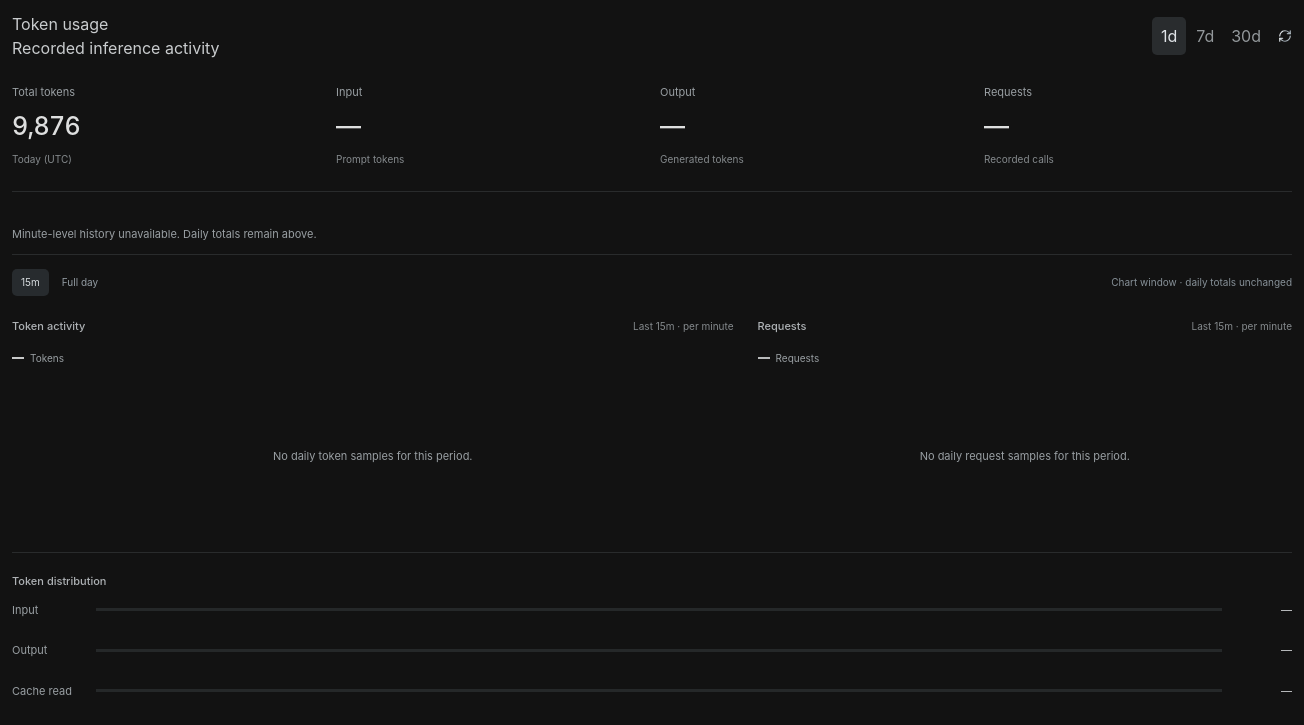
Test: does not relabel a previous period total while the selected period is pending
Click the button named "7 days".
click(1205, 36)  # box [1188,17,1222,55]
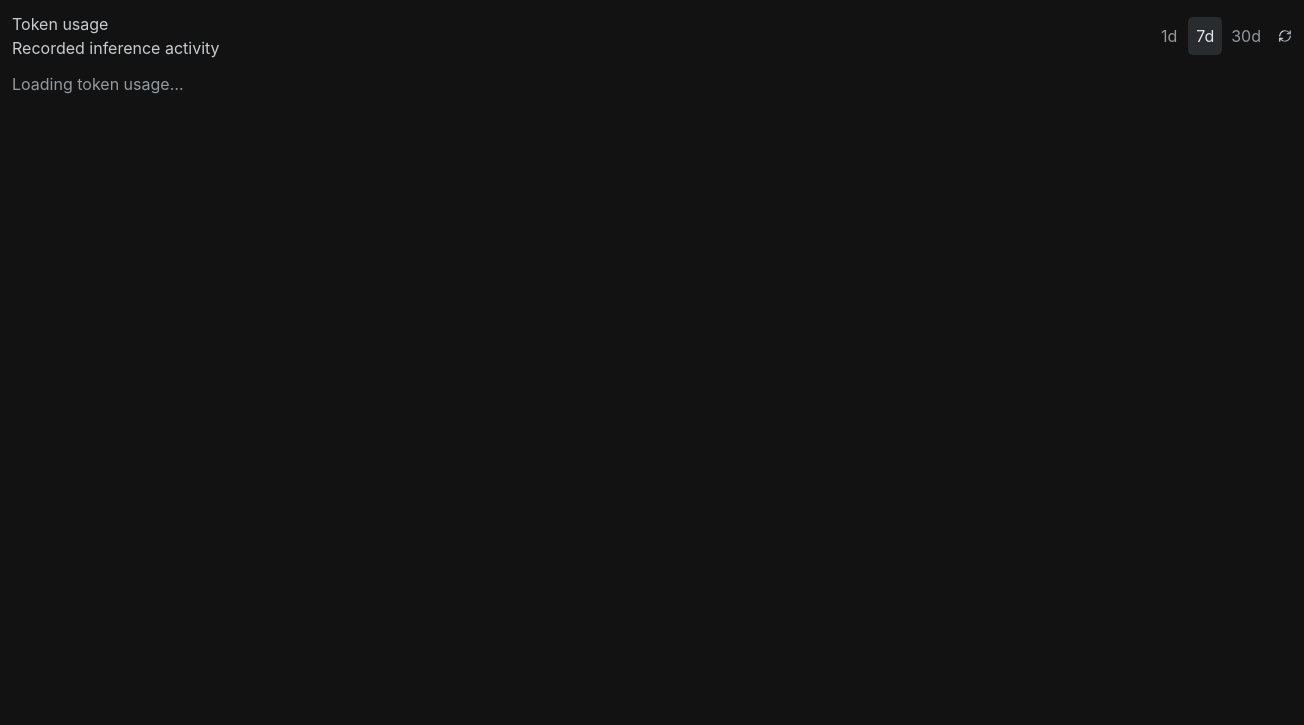
Check: the message shows "Loading token usage", box [12,74,184,94]
